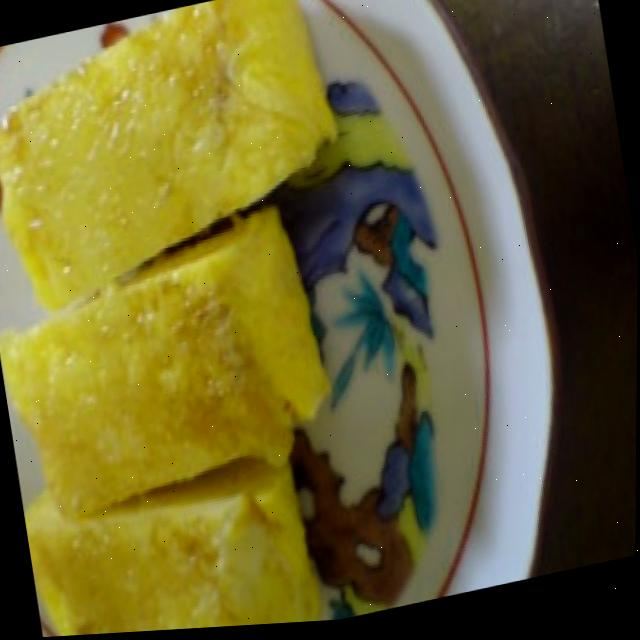鸡蛋料理: (0, 0, 415, 640)
